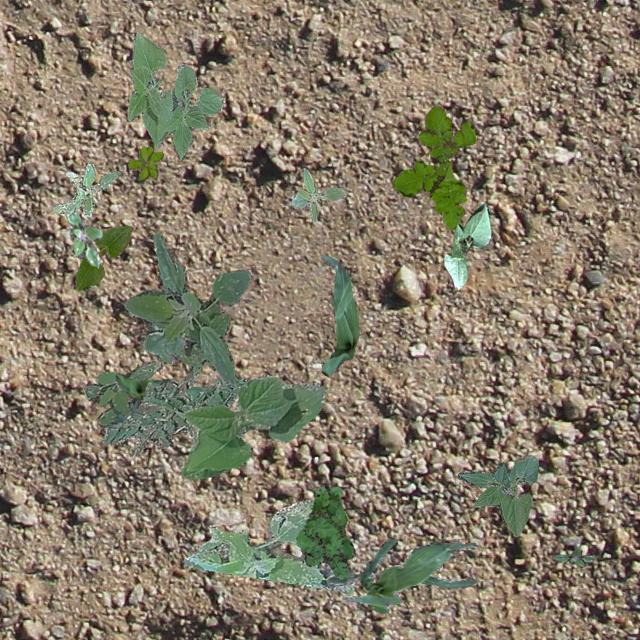crop: (124, 232, 250, 386), (180, 374, 324, 478), (126, 30, 225, 158), (326, 538, 476, 614), (457, 454, 538, 536), (318, 254, 358, 376), (442, 202, 491, 288), (115, 372, 208, 414), (74, 224, 132, 290)
weed: (183, 498, 353, 592), (101, 362, 246, 454), (392, 104, 474, 228), (294, 483, 354, 578), (84, 360, 162, 428), (52, 162, 120, 216), (290, 168, 344, 220), (64, 210, 100, 266), (126, 146, 162, 178), (552, 546, 594, 566)
